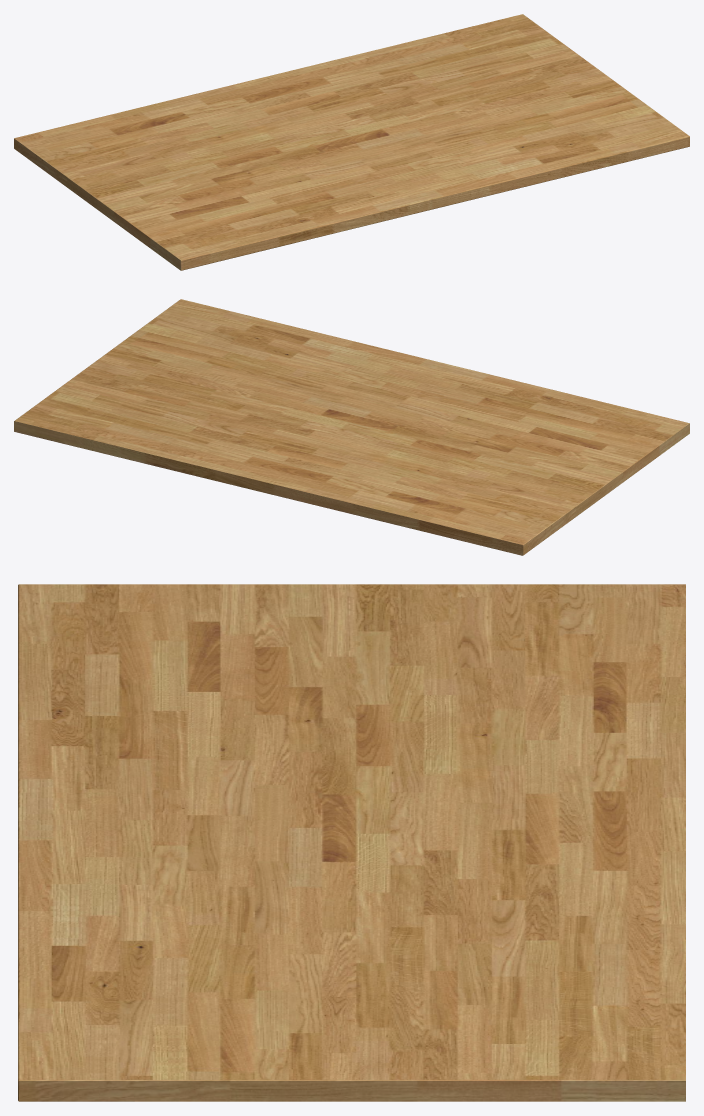
File: KARLBY_30297641.glb
3 views of the same model, one above another, from view 1: azimuth 30°, elevation 25°; view 2: azimuth 150°, elevation 25°; view 3: azimuth 270°, elevation 25° (orthographic). The views are drawn at different scales.
Visible parts, largest first — view 1: model; view 2: model; view 3: model.
Boxes of the visible parts, x1,y1,x2,y2 form: model: (14, 14, 689, 270); model: (14, 299, 689, 555); model: (18, 584, 685, 1101).
Bounding box in the file's own units: 1.88 × 0.038 × 1.07.
1 material, 1 textured.
